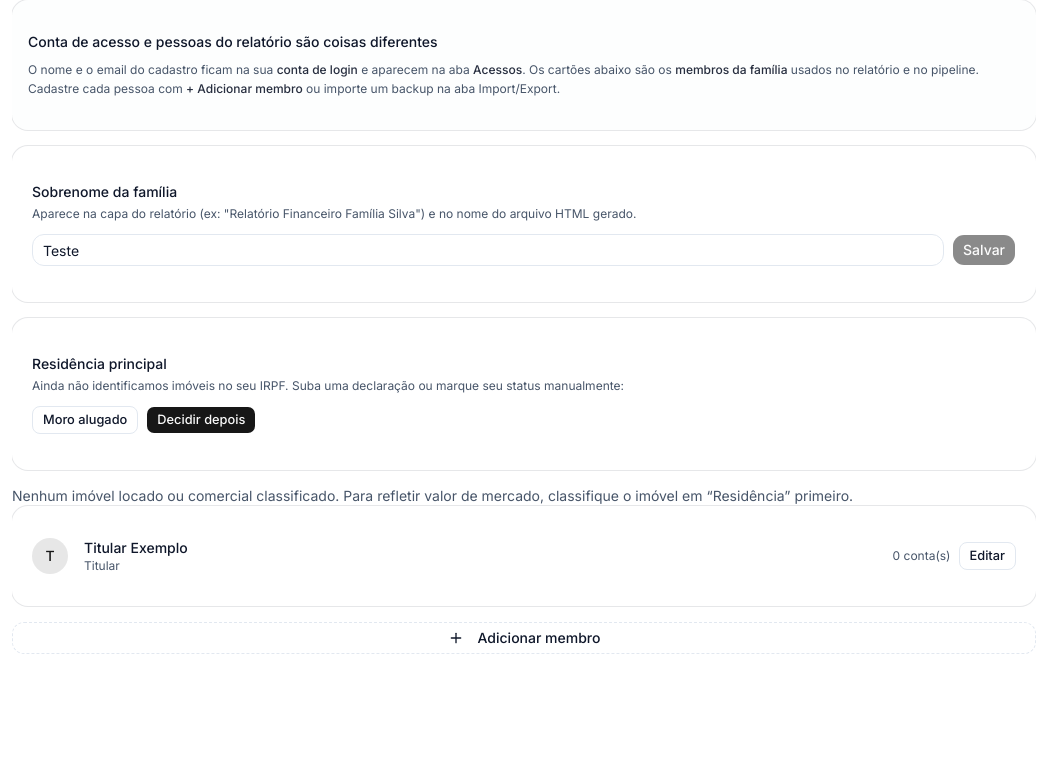
Test case: ConfigPage › membros template (sem id) mostram Editar e explicam ao expandir
Expected: the text "Conta de acesso e pessoas do relatório são coisas diferentes" is shown, [28,33,438,50]
Expected: the text "Titular Exemplo" is shown, [84,539,188,556]
Click the button "Editar" at (987, 556), box [958,542,1016,570]
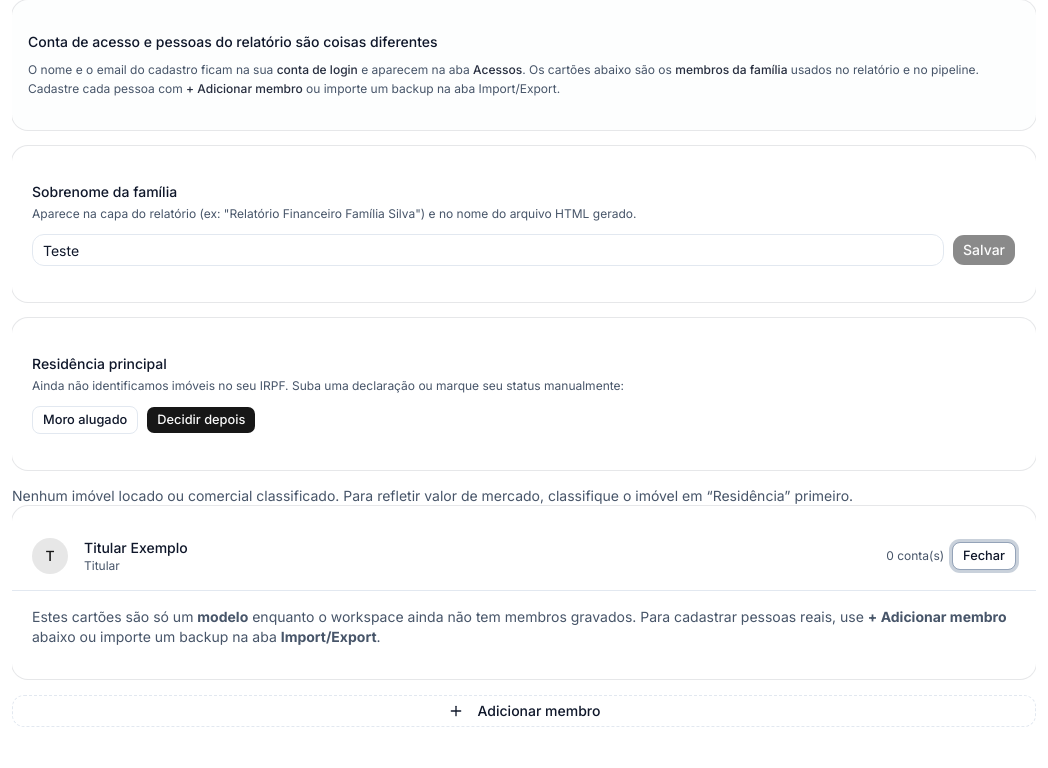
Expected: the element with test id "members-fallback-notice" is shown, [32,607,1016,647]
